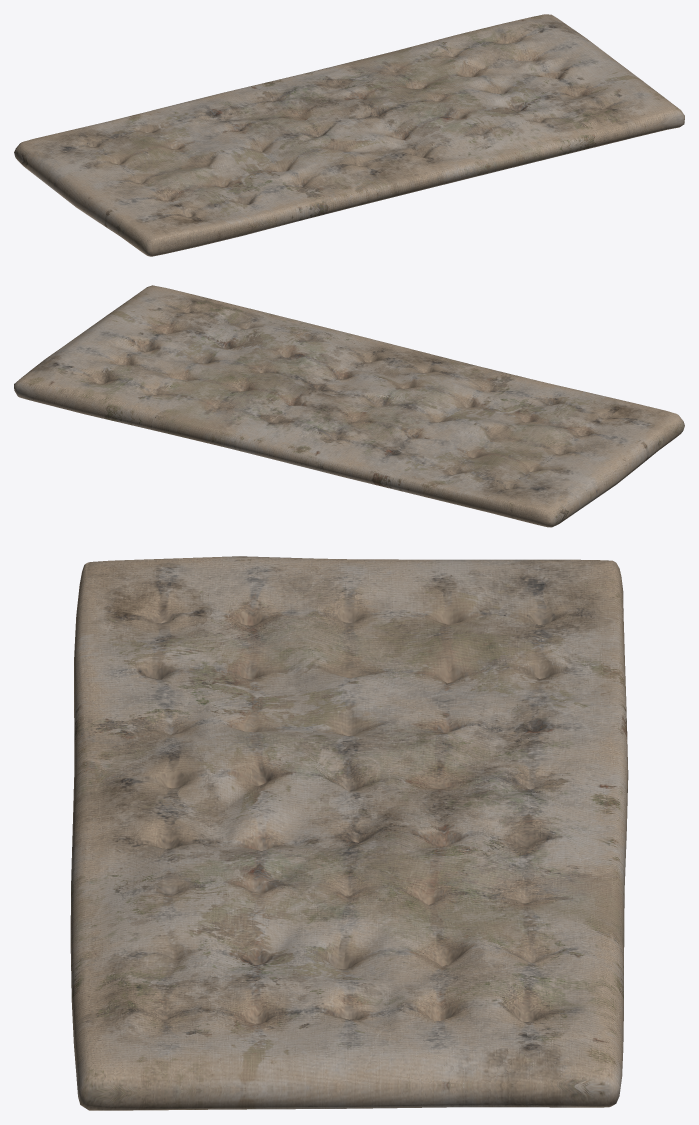
File: SM_Mattress01_1_LOD0.glb
3 views of the same model, one above another, from view 1: azimuth 30°, elevation 25°; view 2: azimuth 150°, elevation 25°; view 3: azimuth 270°, elevation 25° (orthographic). The views are drawn at different scales.
Visible parts, largest first — view 1: SM_Mattress01_1_LOD0; view 2: SM_Mattress01_1_LOD0; view 3: SM_Mattress01_1_LOD0.
Part boxes in pixels (x1,y1,x2,y2): SM_Mattress01_1_LOD0: [14, 14, 684, 256]; SM_Mattress01_1_LOD0: [14, 285, 684, 527]; SM_Mattress01_1_LOD0: [70, 556, 628, 1110].
Bounding box in the file's own units: 2.42 × 0.1438 × 1.08.
1 material, 1 textured.
